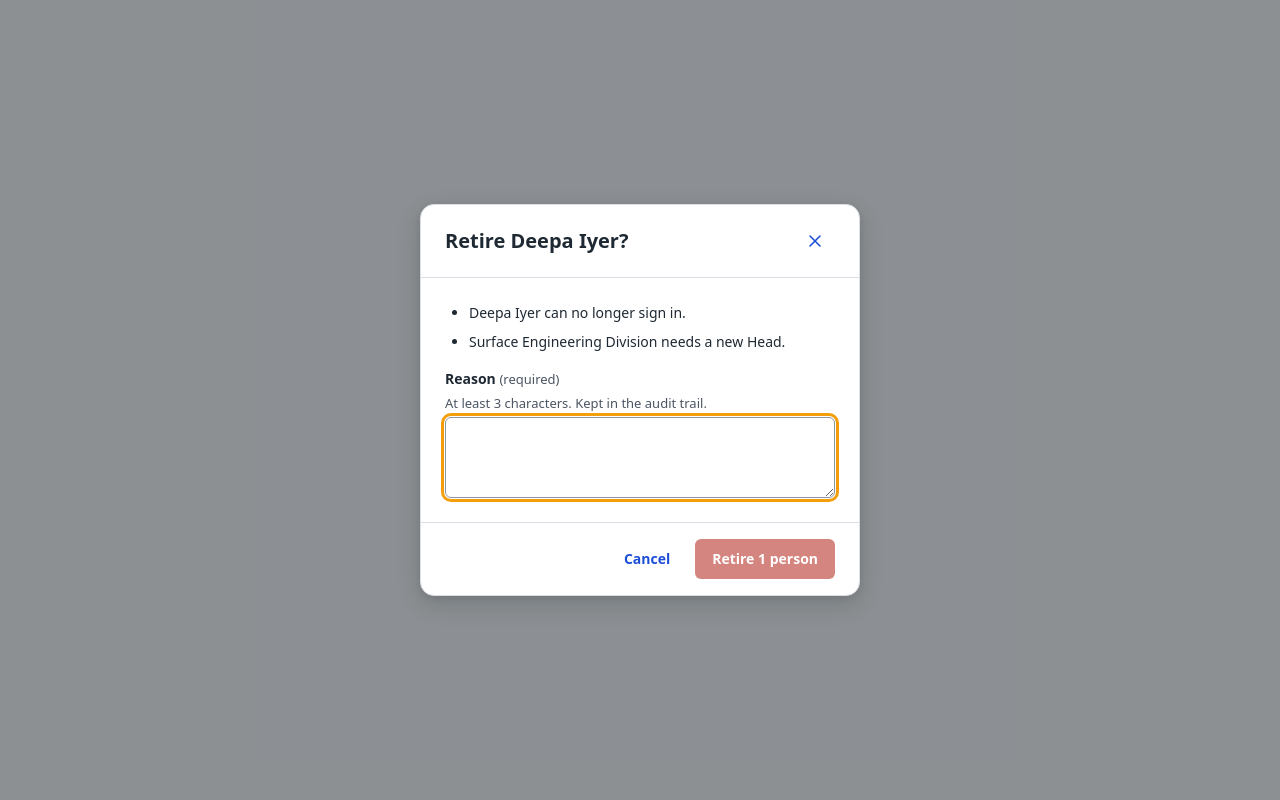
Test: ConfirmDialog › stays open with the error and the reason when the action fails
Type "Retirement" into the text box labelled "Reason (required)" at (640, 458), box [445,417,835,498]
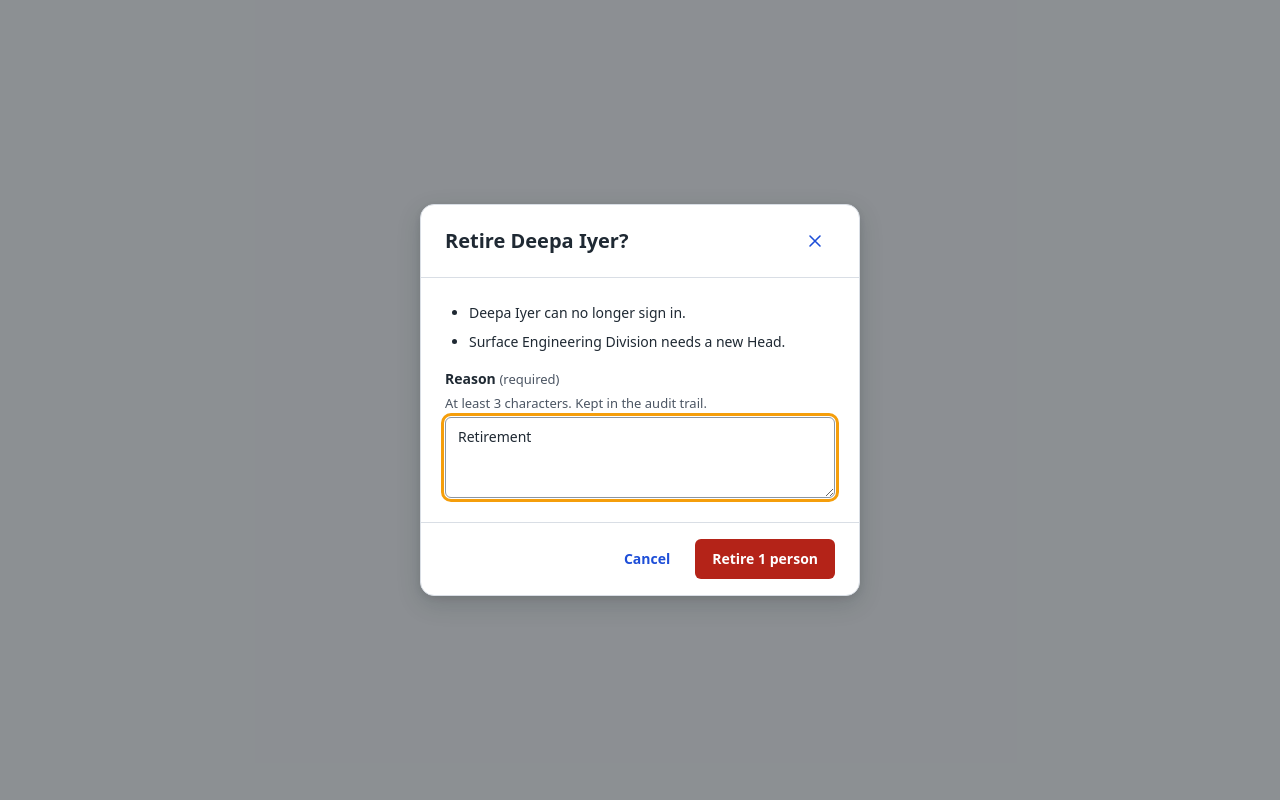
Click the button "Retire 1 person" at (765, 559), box [695,539,835,579]
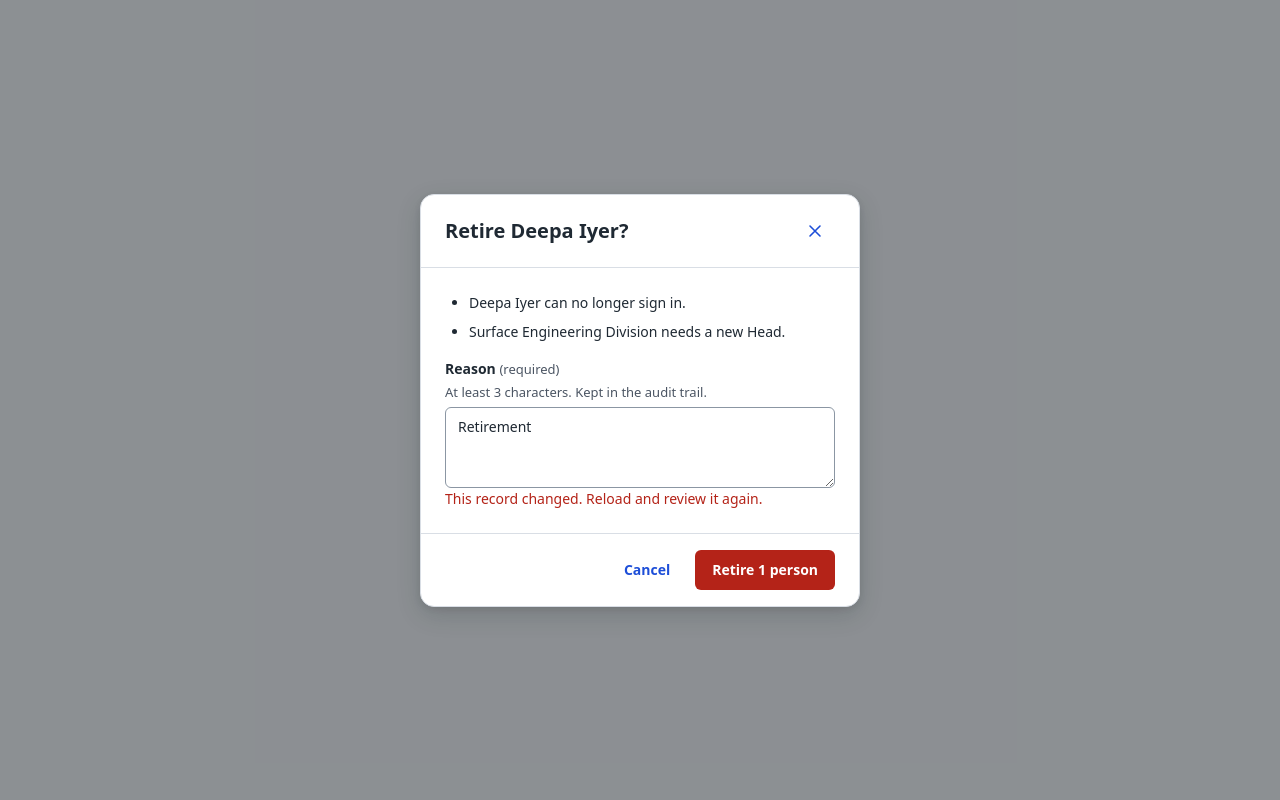
Expected: the dialog is shown, [420,194,860,606]
Result: the message reads "This record changed. Reload and review it again." at [445,488,762,508]
